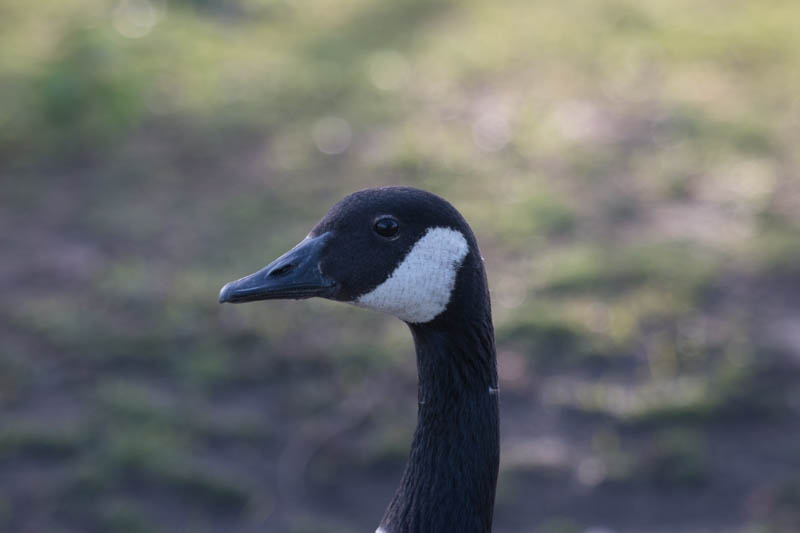goose-head: (217, 185, 493, 326)
